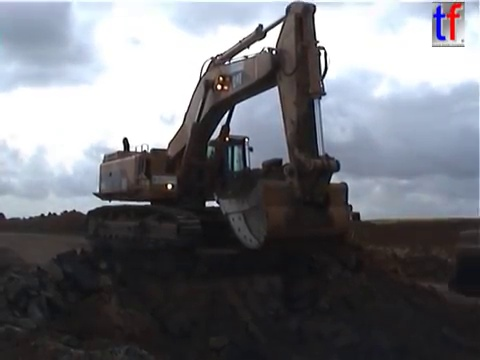excavator: (82, 1, 355, 254)
truck: (444, 227, 480, 301)
wheel loader: (281, 197, 364, 238)
